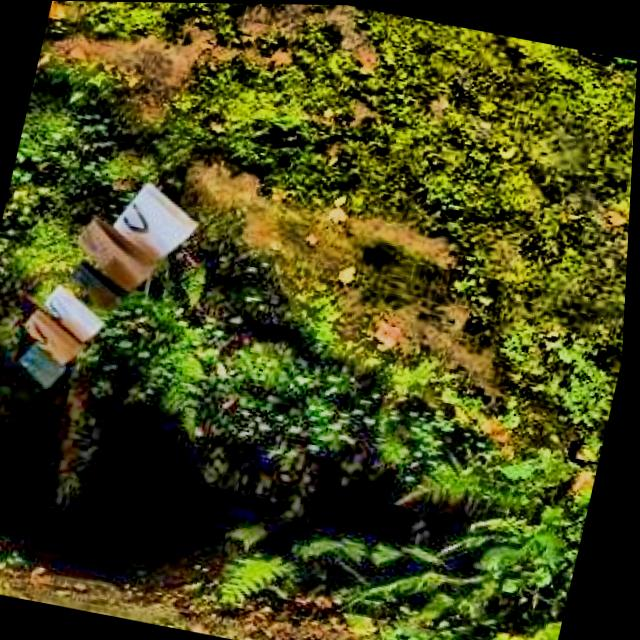Paper-bag: (0, 155, 228, 431)
